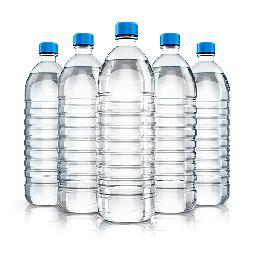plastic: (91, 18, 162, 222), (141, 26, 207, 213), (50, 27, 109, 212), (183, 32, 242, 214), (16, 29, 75, 210)
